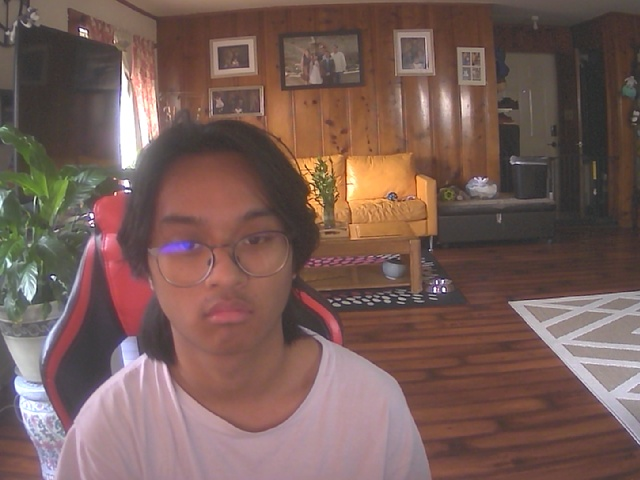neutral: (142, 128, 305, 359)
